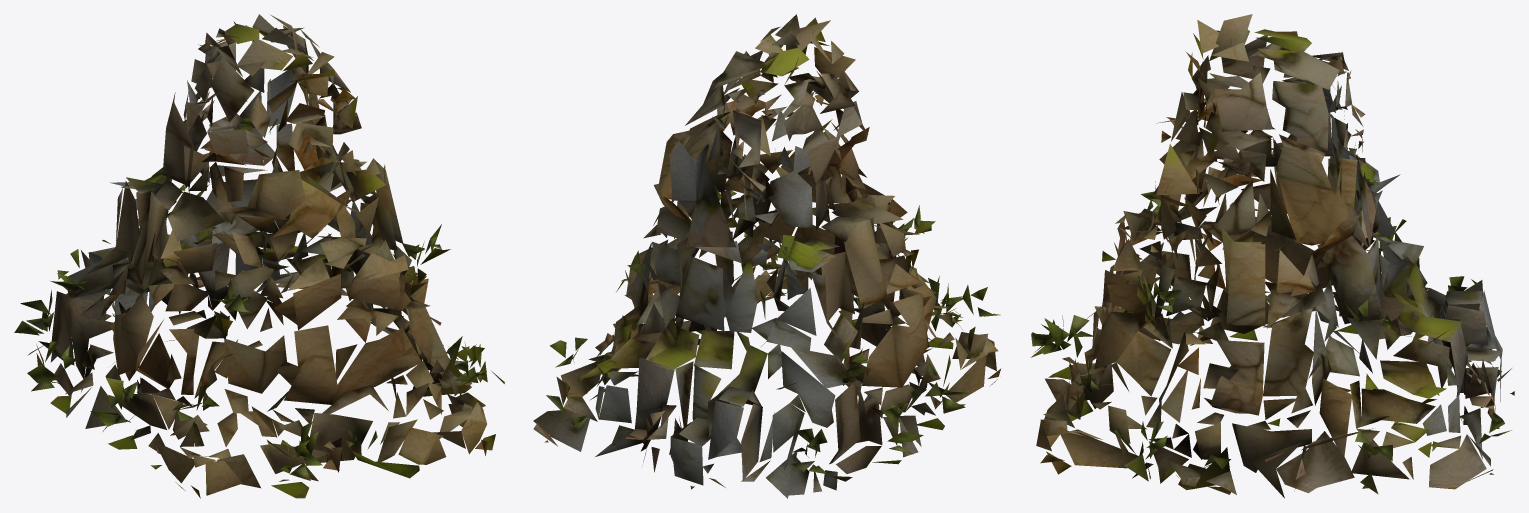
Rendered from epi_mist_ridge_rock_outcrop_LOD3.glb.
3 renders of one model, left to right at view 1: azimuth 30°, elevation 25°; view 2: azimuth 150°, elevation 25°; view 3: azimuth 270°, elevation 25°, orthographic. The views are drawn at different scales.
Parts seen in each view (by area): view 1: tripo_node_afe57d34-b2b2-4e13-acbc-345c426728cd; view 2: tripo_node_afe57d34-b2b2-4e13-acbc-345c426728cd; view 3: tripo_node_afe57d34-b2b2-4e13-acbc-345c426728cd.
Boxes of the visible parts, x1,y1,x2,y2 form: tripo_node_afe57d34-b2b2-4e13-acbc-345c426728cd: (14,14,504,498); tripo_node_afe57d34-b2b2-4e13-acbc-345c426728cd: (533,14,1001,498); tripo_node_afe57d34-b2b2-4e13-acbc-345c426728cd: (1031,14,1514,498).
Size of the model in its own units: 0.9015 by 0.9071 by 0.9908.
Materials: 1 (1 with a texture image).
